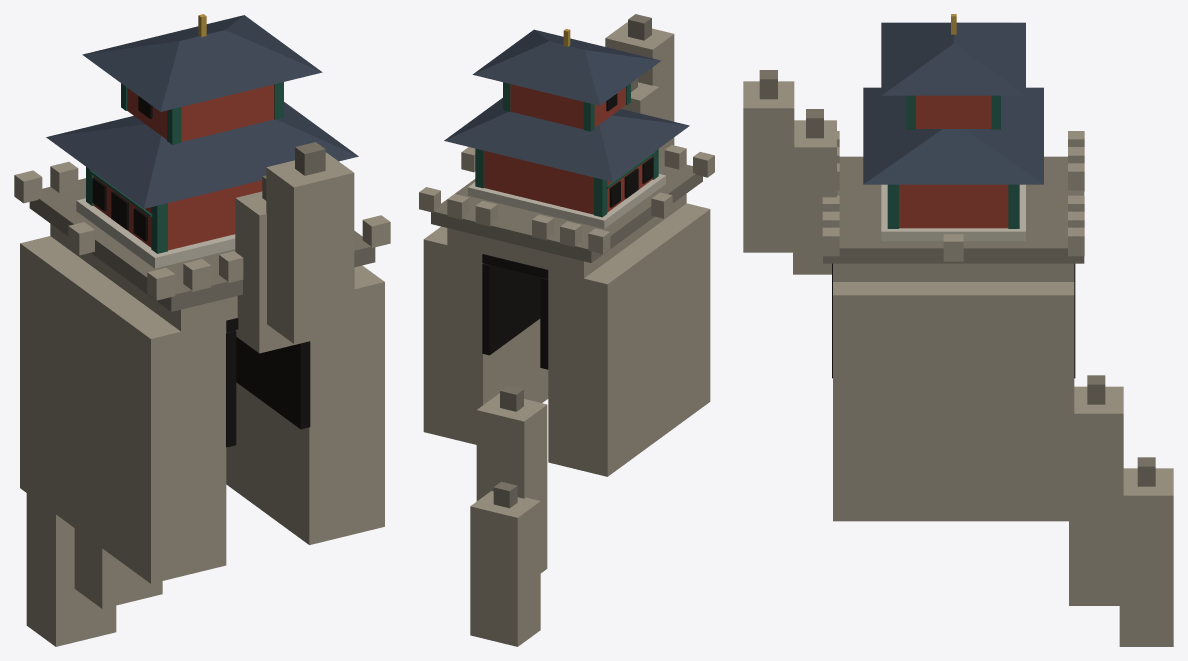
Rendered from friendship-gate-toon.glb.
3 views of the same model, side by side, from view 1: azimuth 30°, elevation 25°; view 2: azimuth 150°, elevation 25°; view 3: azimuth 270°, elevation 25° (orthographic). The views are drawn at different scales.
Visible parts, largest first — view 1: ToonGate; view 2: ToonGate; view 3: ToonGate.
Boxes of the visible parts, left/top/right/bottom form: ToonGate: left=14, top=14, right=390, bottom=646; ToonGate: left=419, top=14, right=714, bottom=646; ToonGate: left=743, top=14, right=1173, bottom=646.
Bounding box in the file's own units: 6.82 × 17.3 × 10.7.
